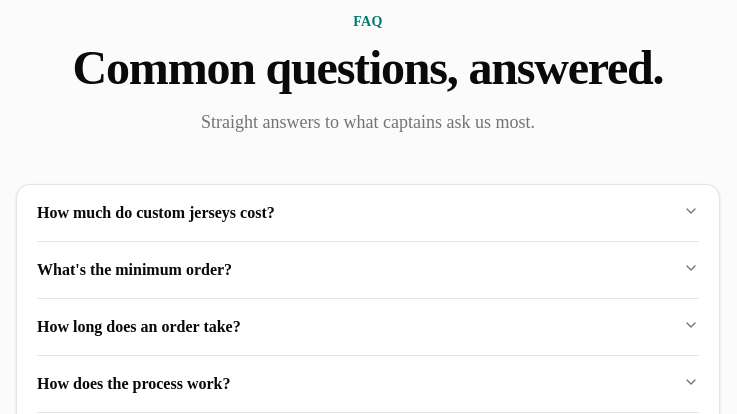
F-03: the rendered FAQ (signed-out visitor) › timeline: the open panel reads exactly as the approved text (each heading, paragraph, list item and fine print)
The width and height of the screenshot is (737, 414).
Click the button "How long does an order take?": [139, 326] box [37,299,699,355]
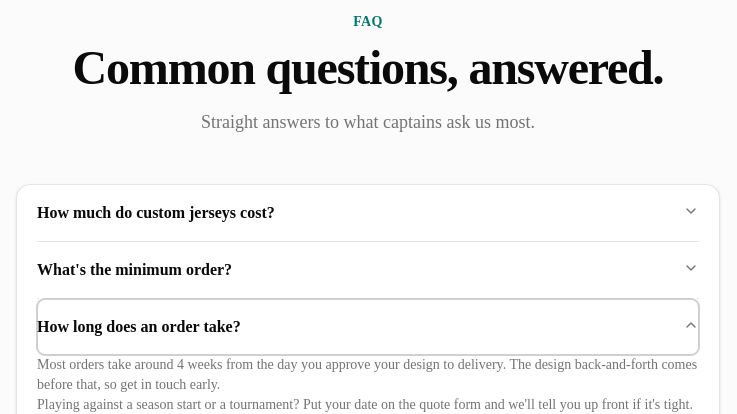
Expected: the button "How long does an order take?" is expanded, [37,299,699,355]
